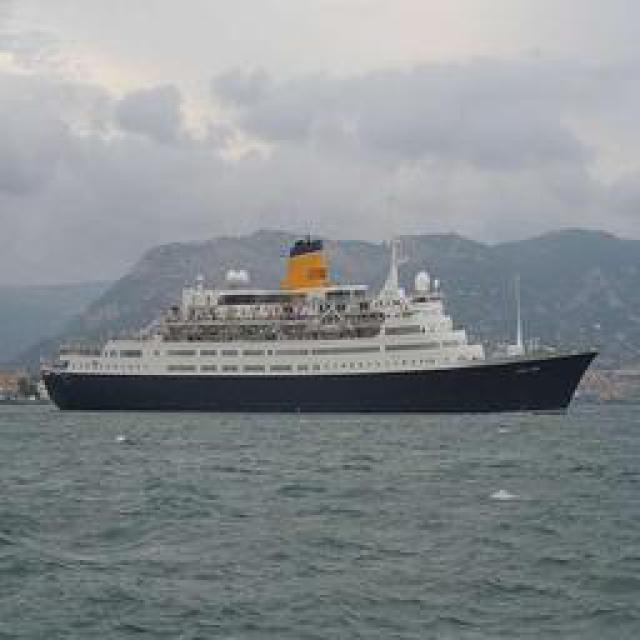Ship: (35, 234, 613, 419)
